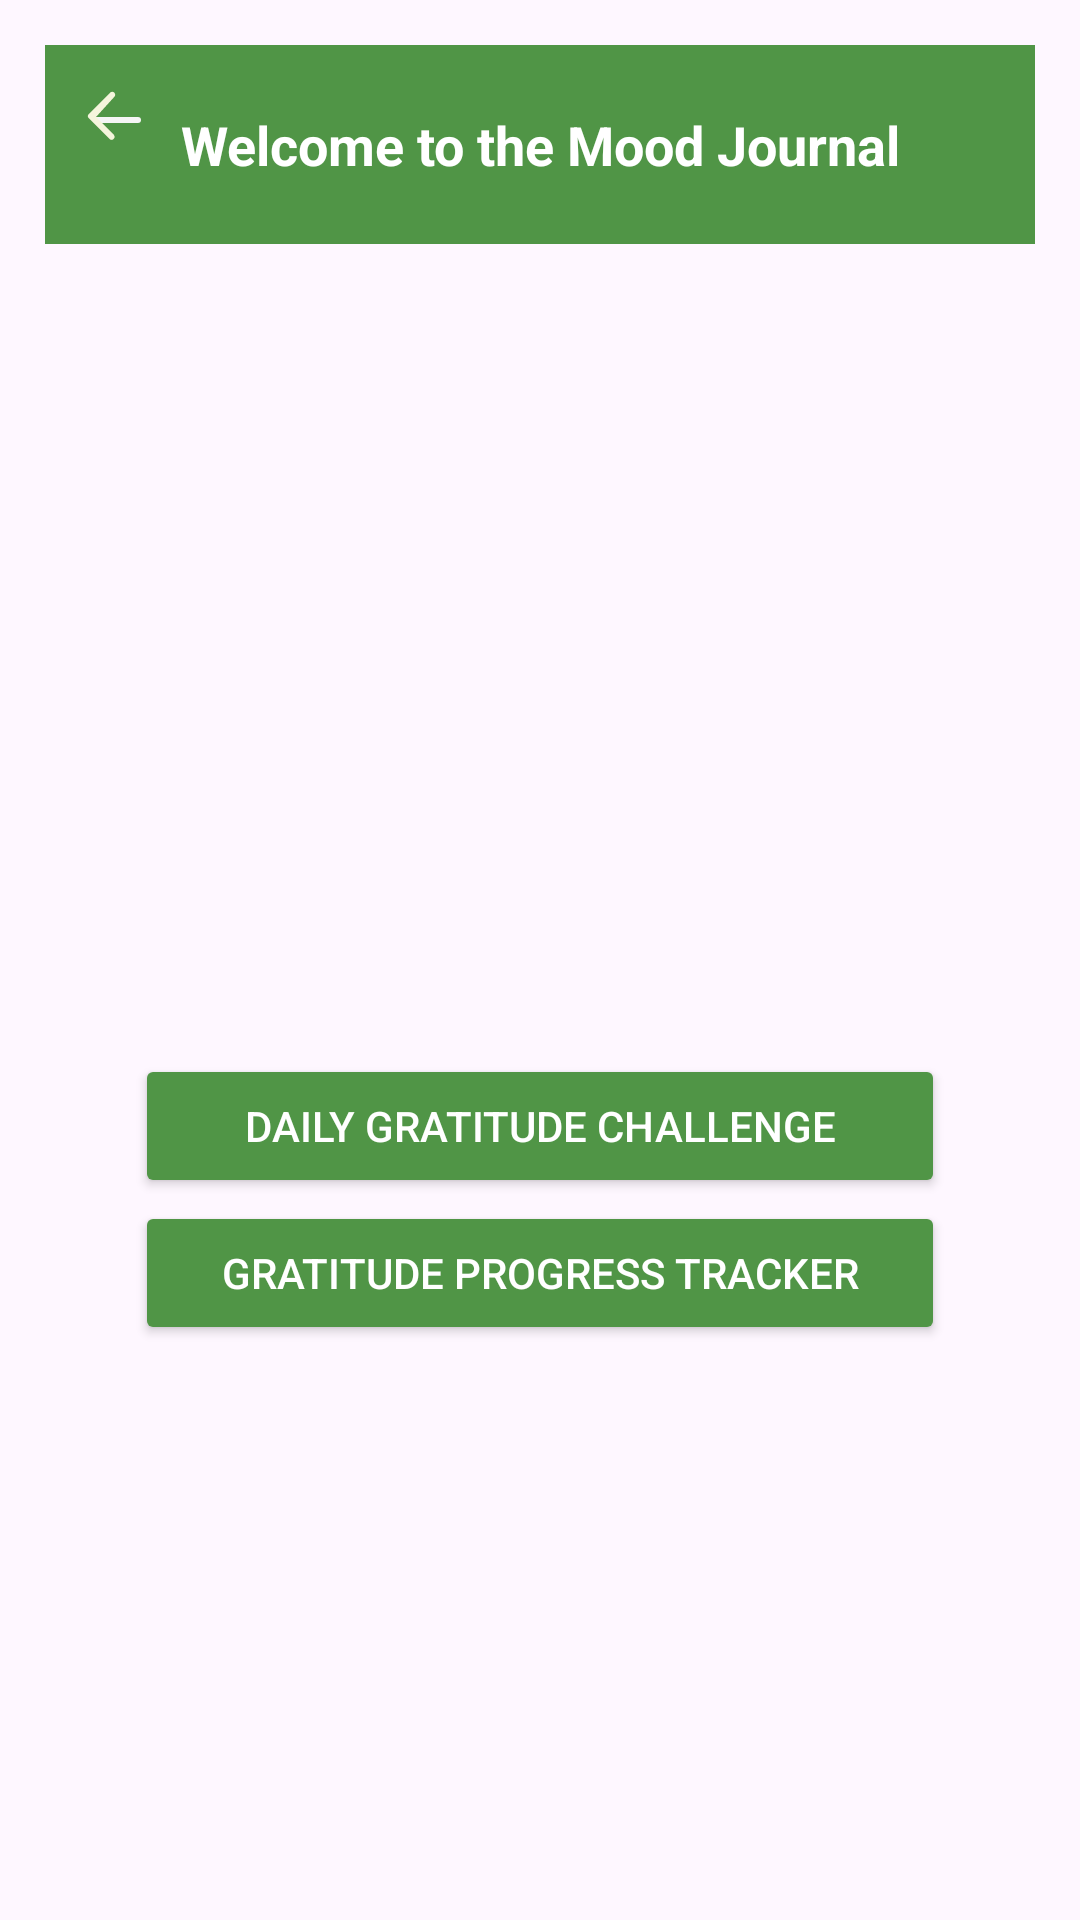

Where to tap for icons on this 1080×1920 app screen, as (x=x, y=y):
Back: (x=114, y=115)
